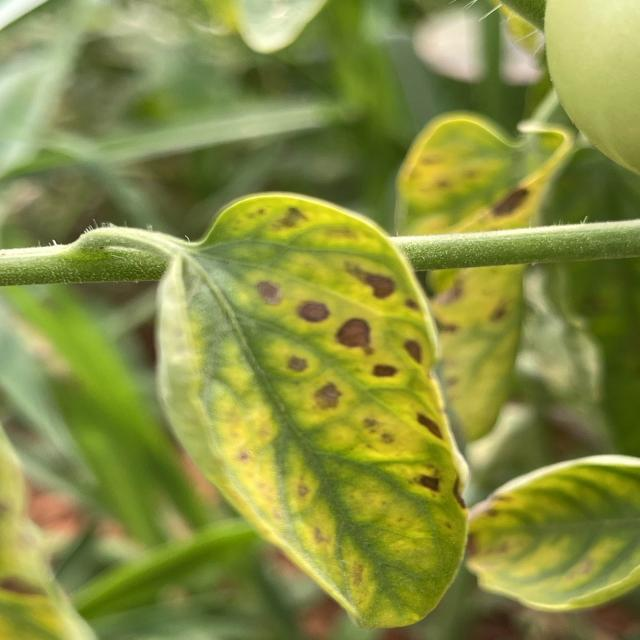tomato_early blight: (153, 192, 467, 629), (397, 112, 569, 445), (453, 446, 640, 613)
